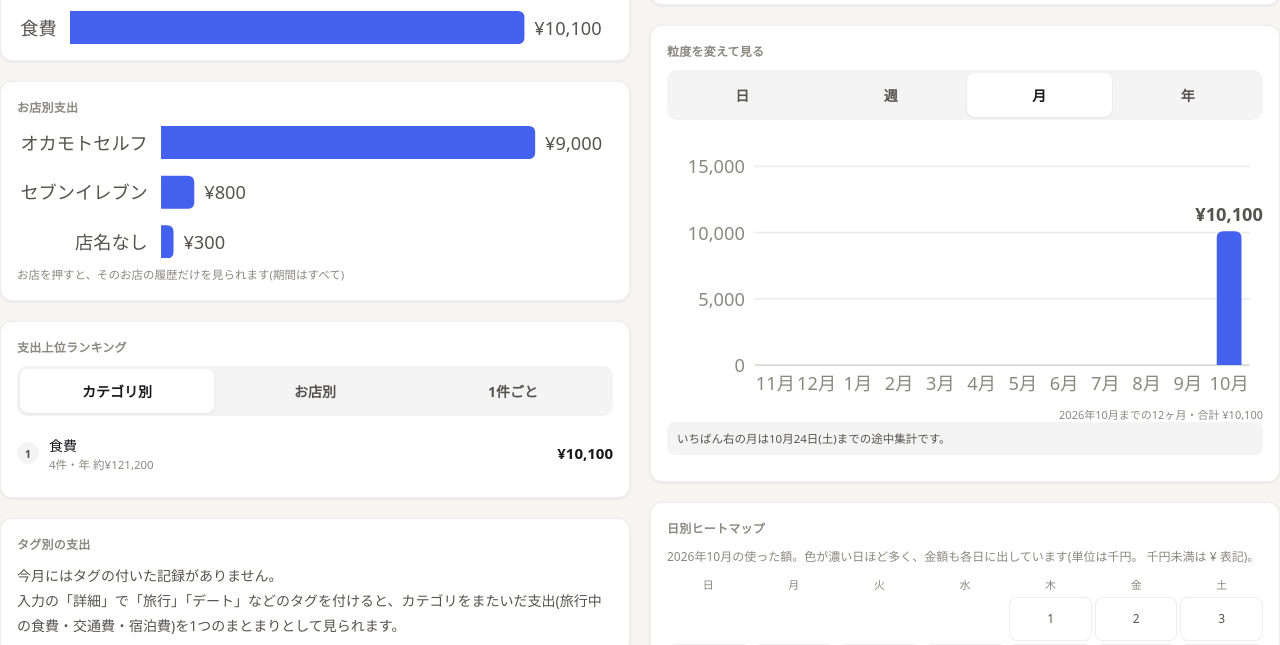
支出上位ランキング(お店別)から履歴へ › カテゴリ別・1件ごとの行は押せない
The width and height of the screenshot is (1280, 645).
(page scrolled)
Click the button "1件ごと" at (513,391), box [416,369,610,413]
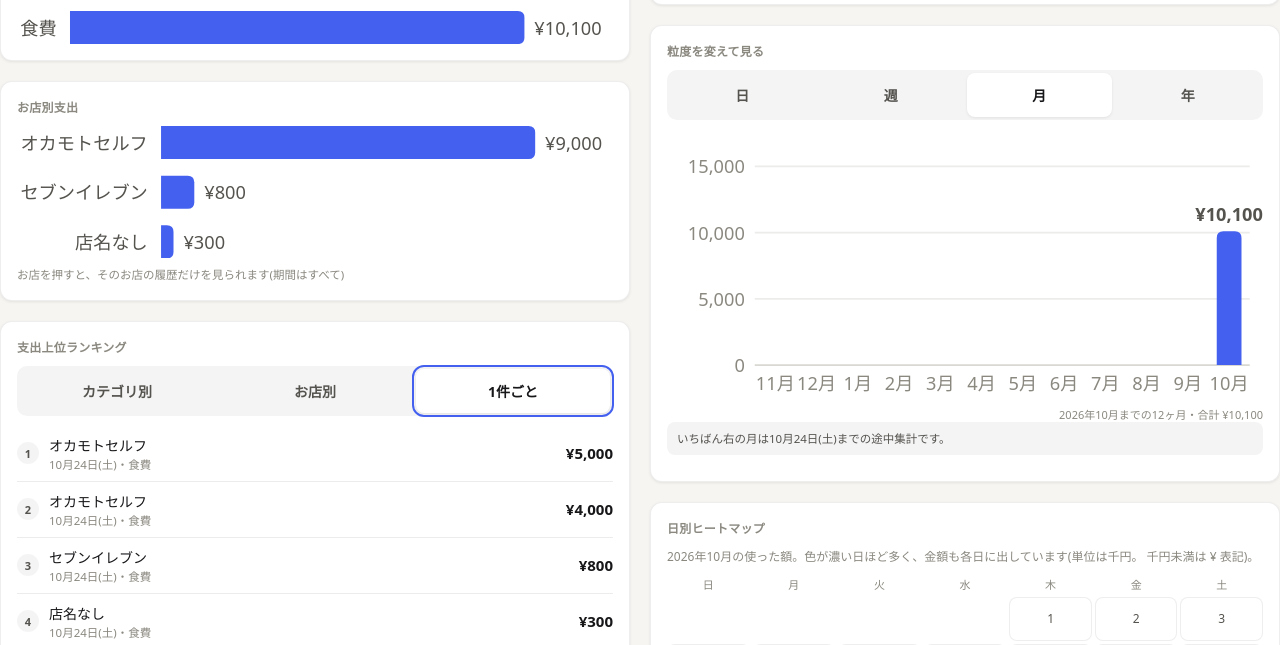
Click the button "お店別" at (315,391), box [218,369,412,413]
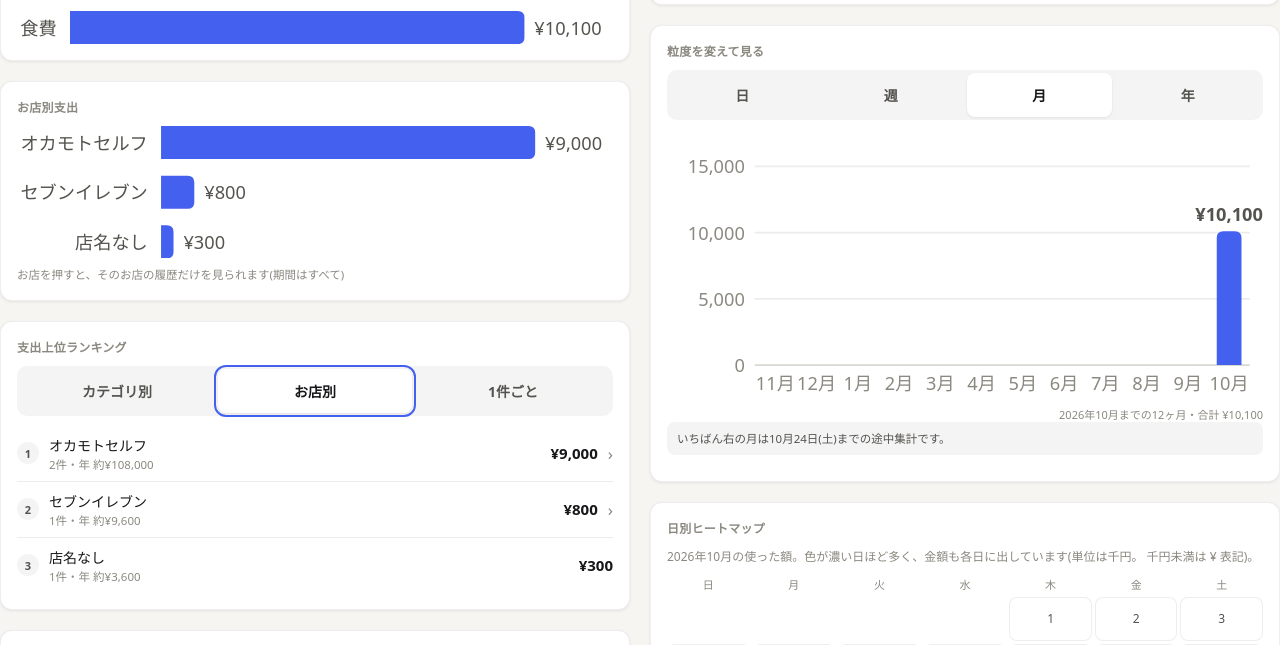
Check: the button with class "rank-row-btn" that starts with "オカモトセルフ" is shown, box [17,426,613,481]
